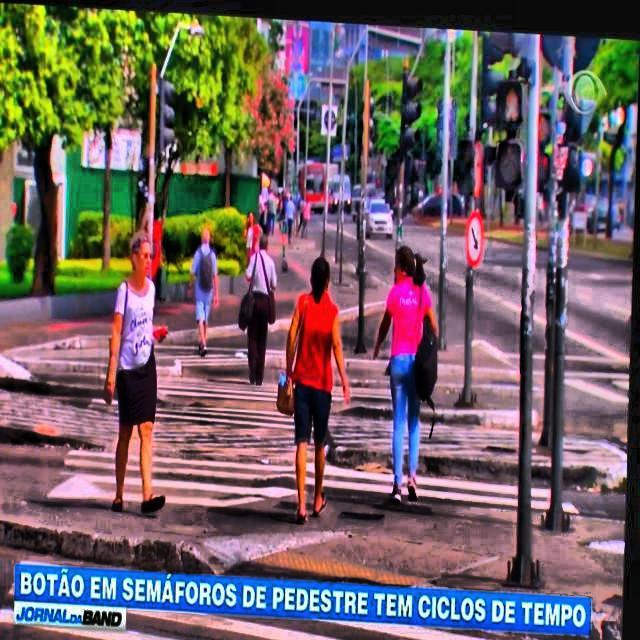faixa de pedestre: (74, 451, 579, 519)
